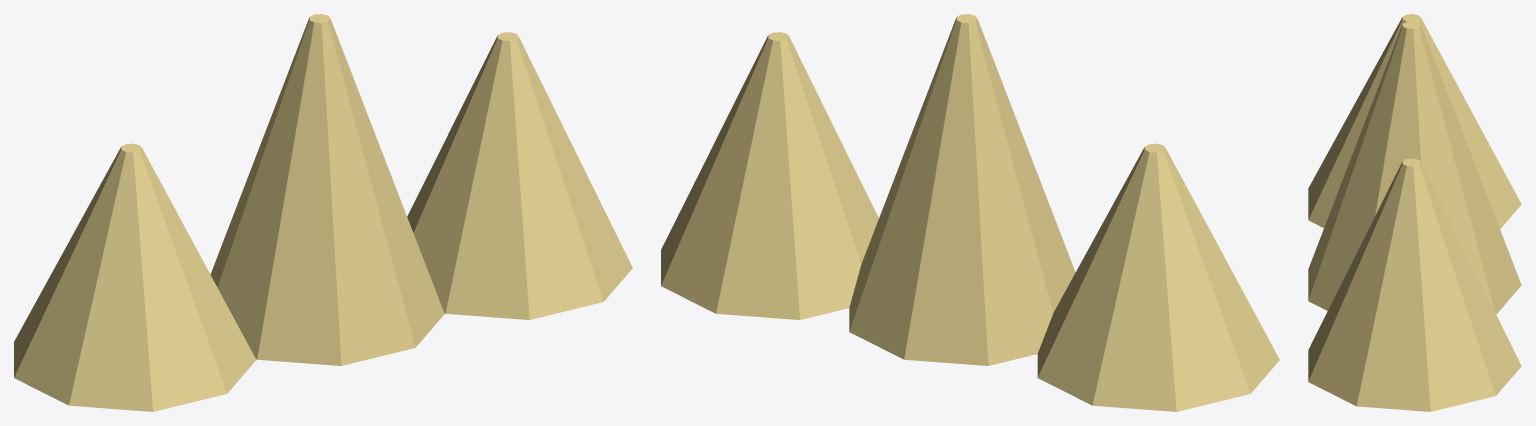
File: haystack_row_far-DYh0fCAd.glb
3 renders of one model, left to right at view 1: azimuth 30°, elevation 25°; view 2: azimuth 150°, elevation 25°; view 3: azimuth 270°, elevation 25°, orthographic. The views are drawn at different scales.
Parts seen in each view (by area): view 1: haystack_row_far; view 2: haystack_row_far; view 3: haystack_row_far.
Boxes of the visible parts, x1,y1,x2,y2 form: haystack_row_far: (14, 14, 632, 411); haystack_row_far: (661, 14, 1279, 411); haystack_row_far: (1308, 14, 1521, 411).
Bounding box in the file's own units: 12.53 × 6 × 4.46.
